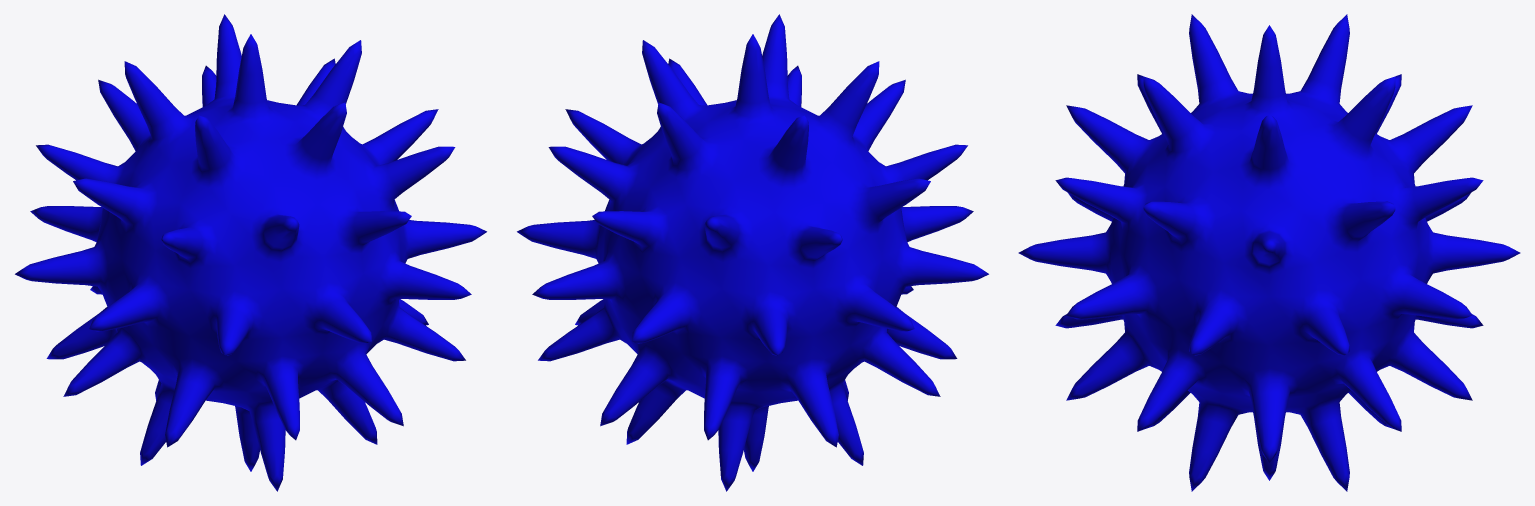
Rendered from enemy blue.fbx.
3 views of the same model, side by side, from view 1: azimuth 30°, elevation 25°; view 2: azimuth 150°, elevation 25°; view 3: azimuth 270°, elevation 25° (orthographic). The views are drawn at different scales.
Visible parts, largest first — view 1: Icosphere; view 2: Icosphere; view 3: Icosphere.
Part boxes in pixels (x1,y1,x2,y2): Icosphere: [15, 14, 486, 491]; Icosphere: [517, 14, 988, 491]; Icosphere: [1018, 14, 1520, 491].
Size of the model in its own units: 282 by 297 by 296.
